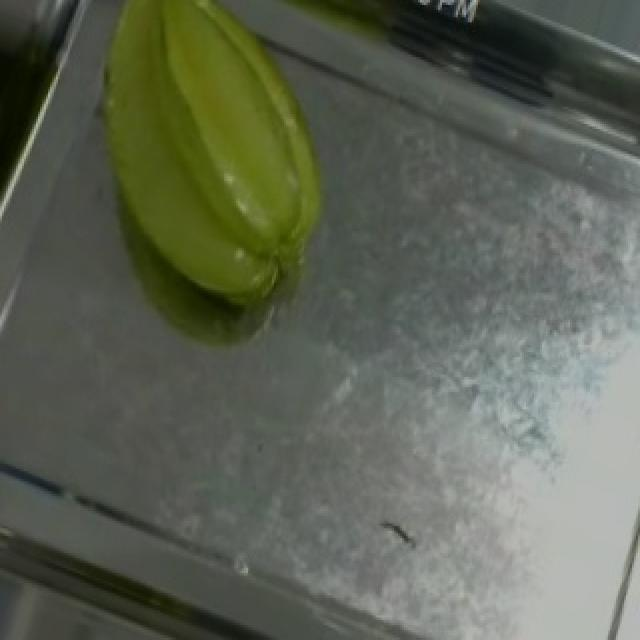fruit: (34, 0, 394, 325)
